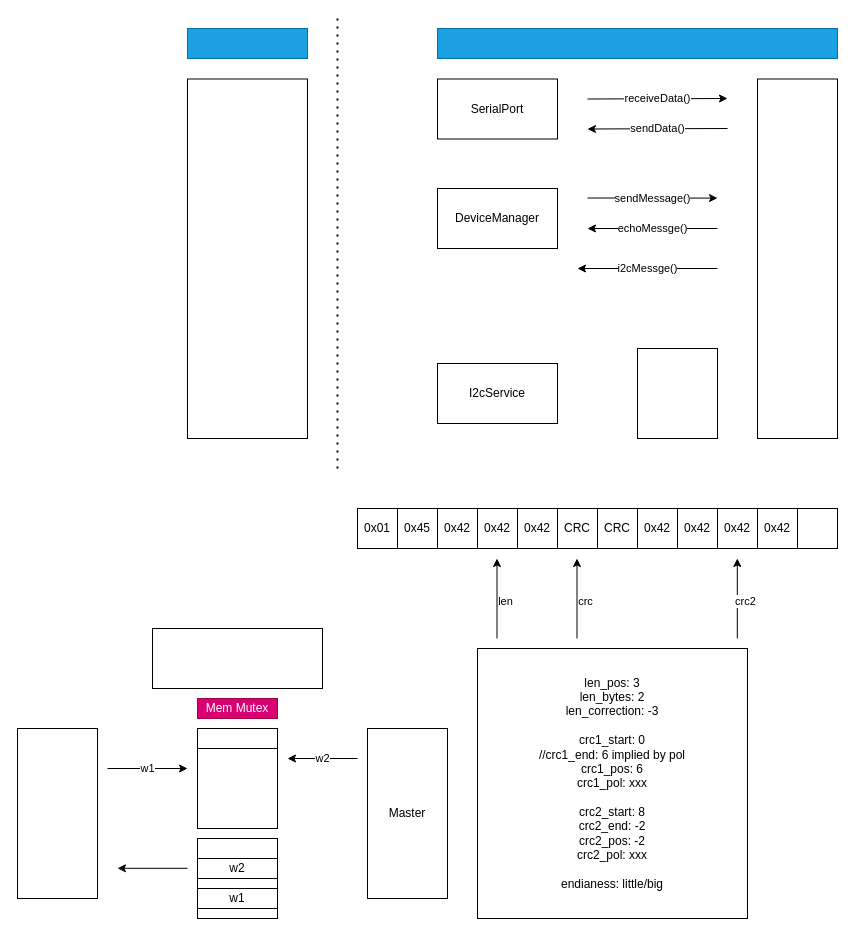
This 855x936 diagram has some shape labels left out. The centre of each missing label's shape, as x and y in pixels:
Assign mutex to request/indication and release it when it got serviced: (x=237, y=658)
COM thread: (x=637, y=43)
FrameDriver: (x=797, y=258)
I2cProtoCom: (x=677, y=393)
InterfaceExpander: (x=247, y=258)
Main thread: (x=247, y=43)
PC: (x=57, y=813)
Slave Mem: (x=237, y=738)
Slave Queue: (x=237, y=848)
